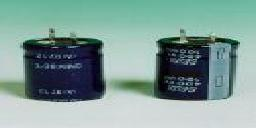Electrolytic-Capacitor: (18, 24, 108, 106), (155, 27, 242, 104)
